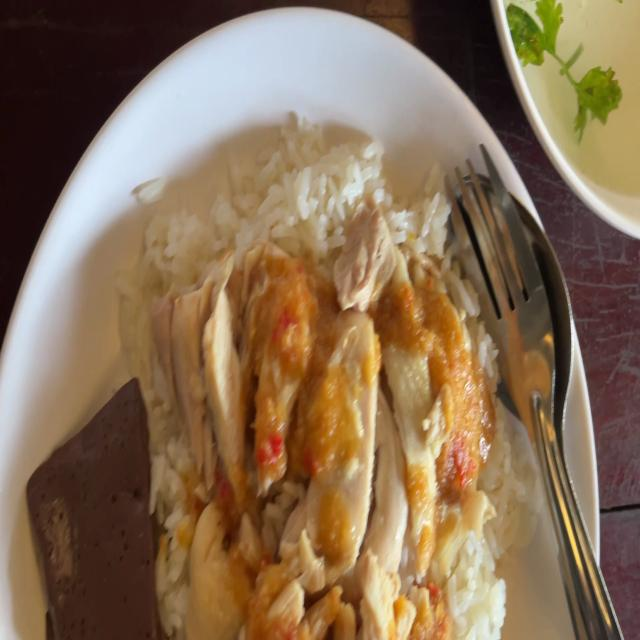boiled_chicken: (152, 244, 474, 636)
boiled_chicken_blood_jelly: (37, 376, 168, 640)
chicken_rice: (42, 109, 495, 640)
